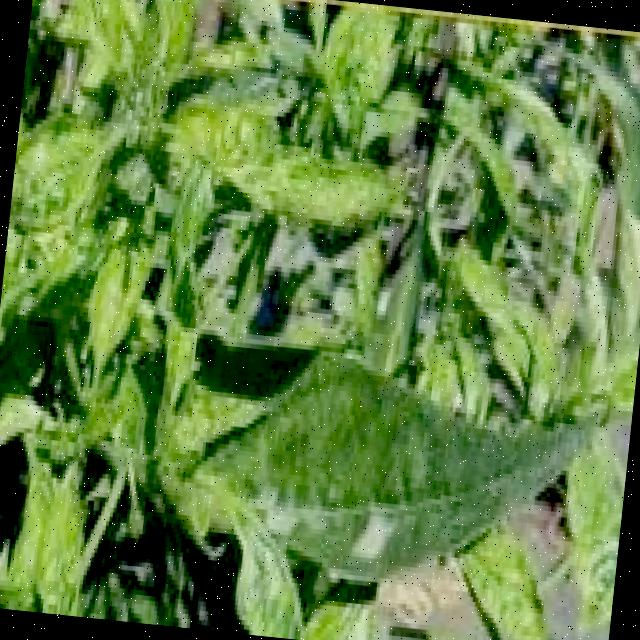leaf curl: (0, 0, 279, 625), (273, 0, 640, 373)
